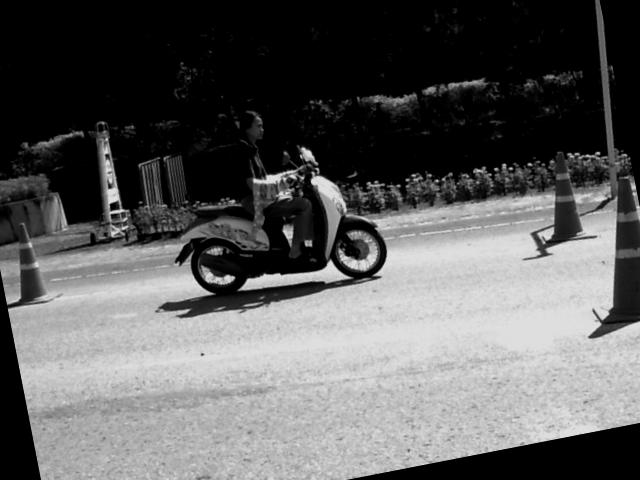motor: (176, 147, 386, 293)
no-helmet: (235, 109, 263, 137)
person: (263, 174, 315, 262), (232, 109, 266, 213)
